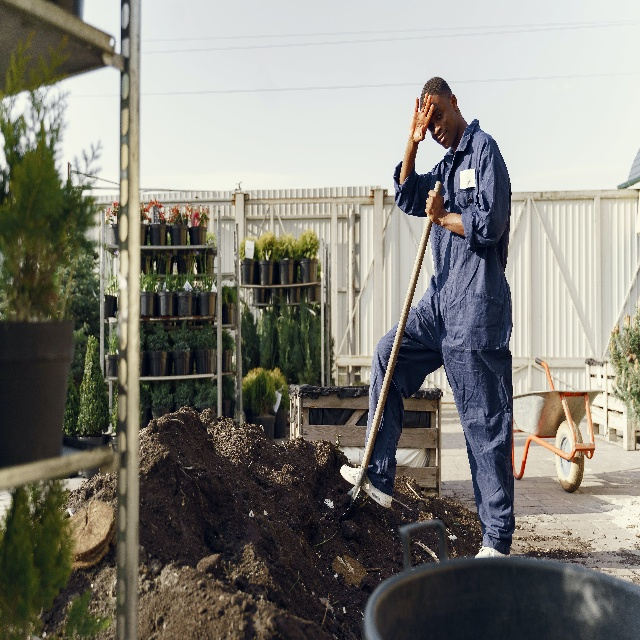Sin_guantes: (408, 92, 433, 144), (424, 190, 445, 225)
